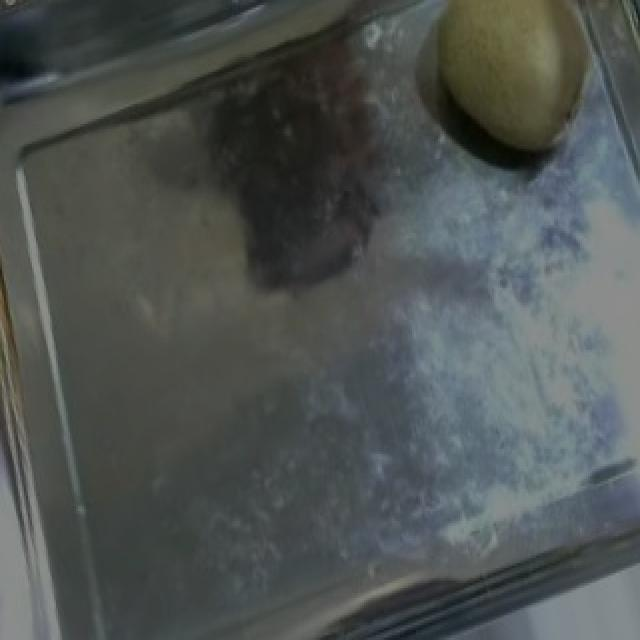Fruit: (400, 0, 622, 184)
